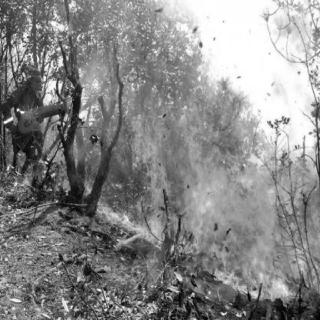Fire: (115, 78, 318, 302)
